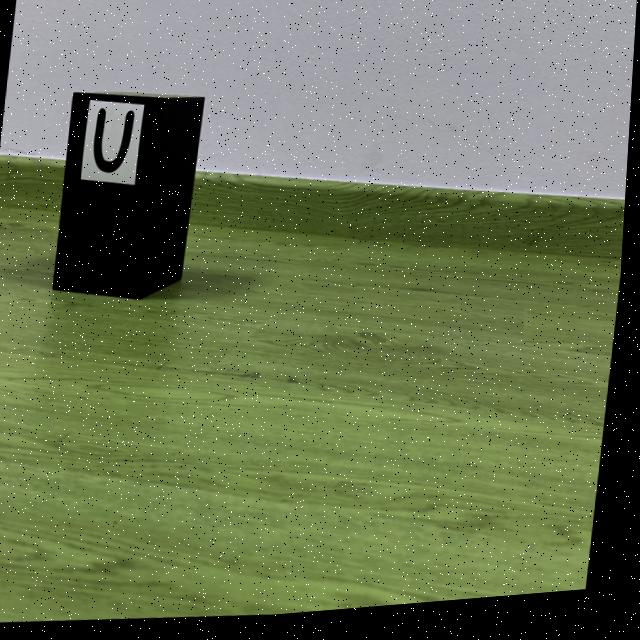U: (95, 110, 136, 175)
